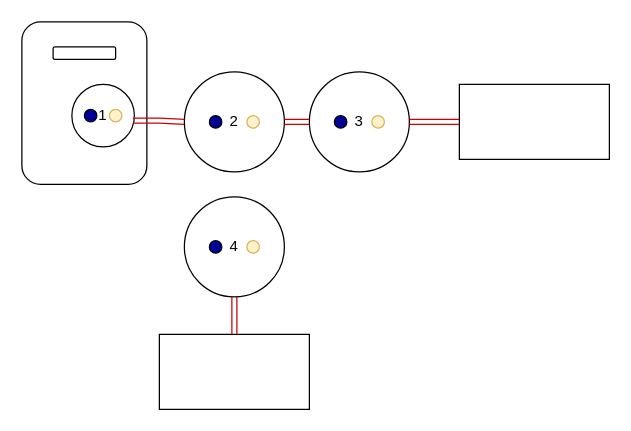
Some shapes in this 631 by 431 pixel diagram are drawn without their labels. The centre of each missing label's shape, as x and y in pixels:
"ESP32" belongs at (233,371).
"USB/TTL Serial Adapter" belongs at (533,121).
